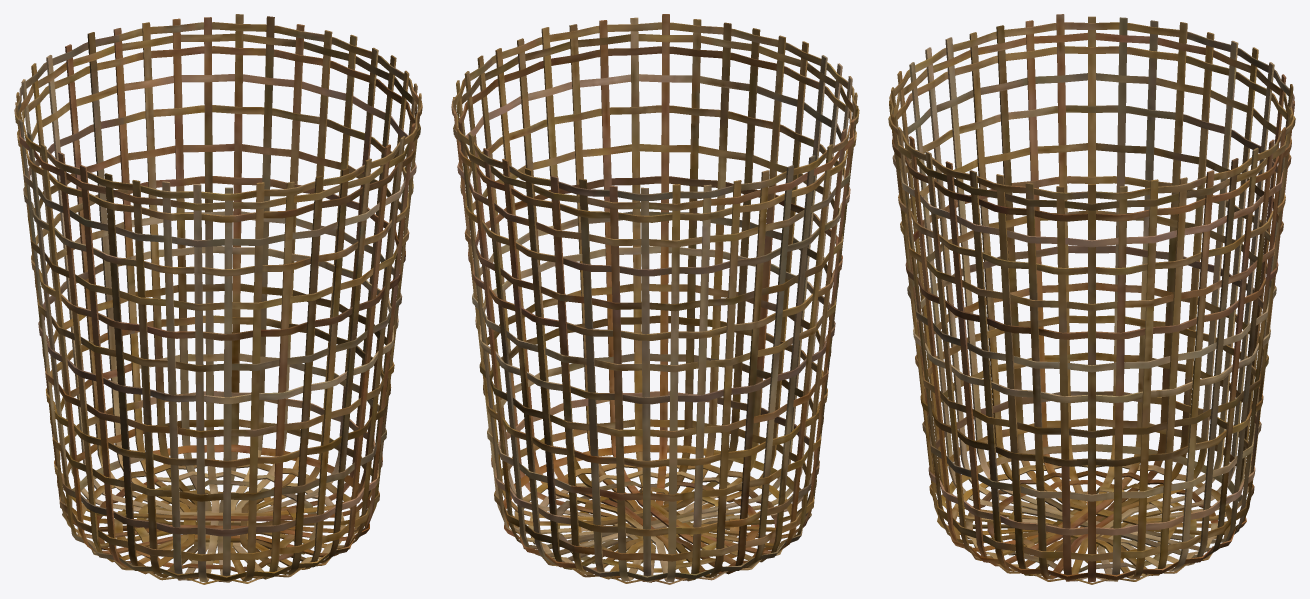
The model's file is xi_oam_wicker_bucket.gltf.
The picture shows the model from 3 angles, left to right: view 1: azimuth 30°, elevation 25°; view 2: azimuth 150°, elevation 25°; view 3: azimuth 270°, elevation 25°; orthographic projection.
Parts seen in each view (by area): view 1: xi_oam_wicker_bucket; view 2: xi_oam_wicker_bucket; view 3: xi_oam_wicker_bucket.
Boxes of the visible parts, x1,y1,x2,y2 form: xi_oam_wicker_bucket: (14,14,422,584); xi_oam_wicker_bucket: (451,14,859,584); xi_oam_wicker_bucket: (888,14,1295,584).
Bounding box in the file's own units: 0.365 × 0.426 × 0.365.
1 material, 1 textured.
